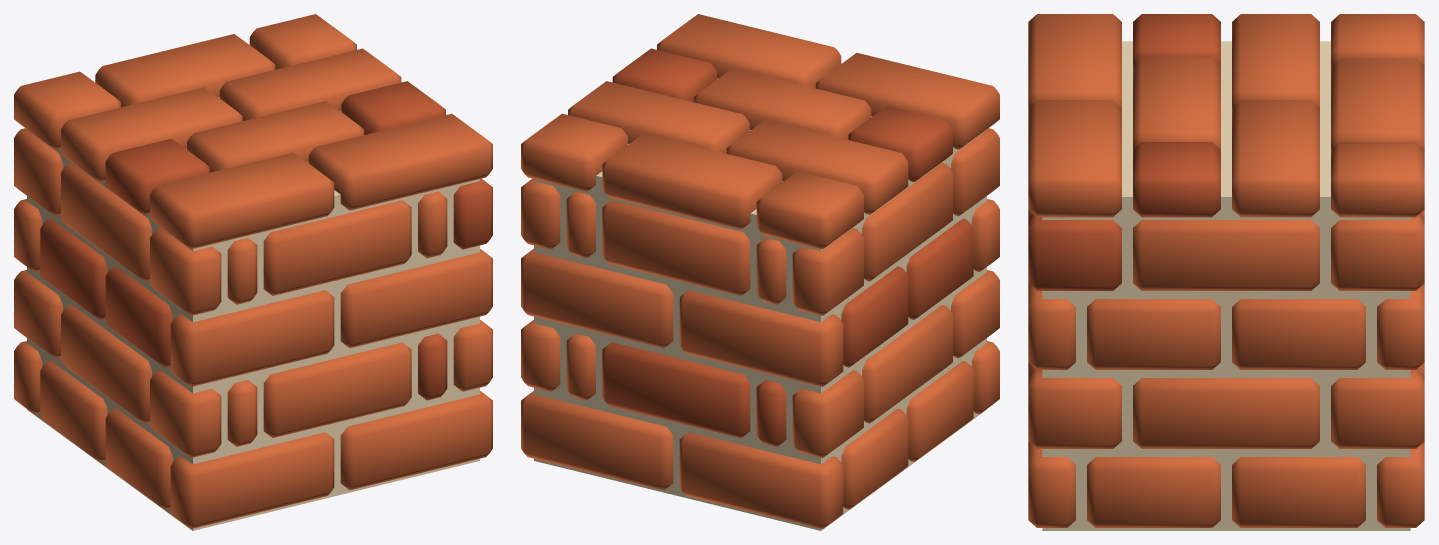
File: brick_block.glb
3 renders of one model, left to right at view 1: azimuth 30°, elevation 25°; view 2: azimuth 150°, elevation 25°; view 3: azimuth 270°, elevation 25°, orthographic. The views are drawn at different scales.
Visible parts, largest first — view 1: brick_block; view 2: brick_block; view 3: brick_block.
Boxes of the visible parts, x1=… form: brick_block: x1=14, y1=14, x2=492, y2=530; brick_block: x1=521, y1=14, x2=999, y2=530; brick_block: x1=1028, y1=14, x2=1424, y2=530.
Bounding box in the file's own units: 1 × 1 × 1.
